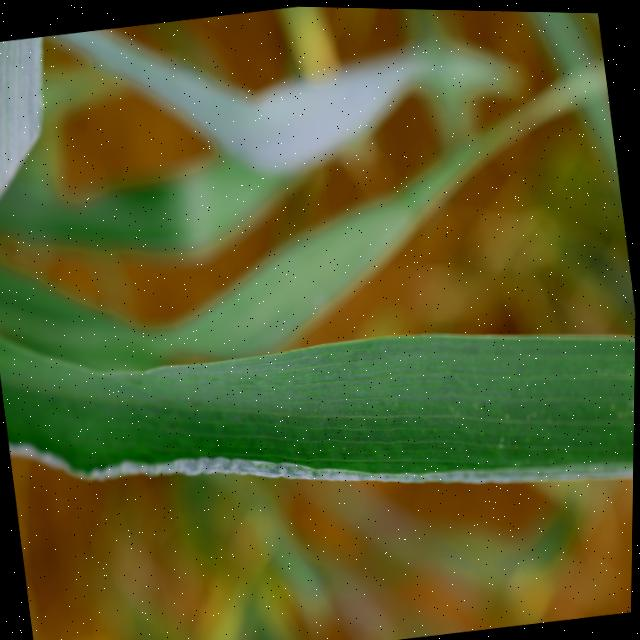healthy_wheat: (0, 238, 637, 574), (89, 2, 627, 289), (0, 31, 103, 253)
